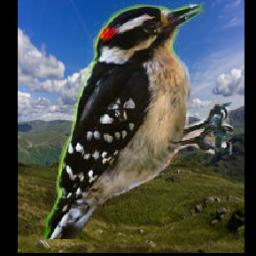Woodpecker: (45, 3, 234, 240)
